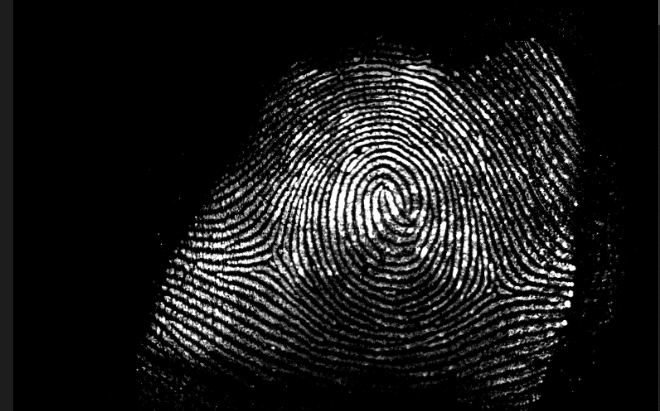nucelo: (372, 180, 405, 227)
verticilo: (254, 247, 286, 280), (480, 275, 517, 302)
